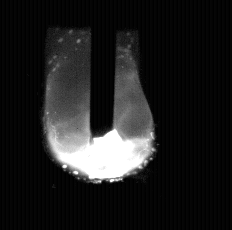arame: (91, 0, 115, 140)
poca: (49, 0, 150, 230)
